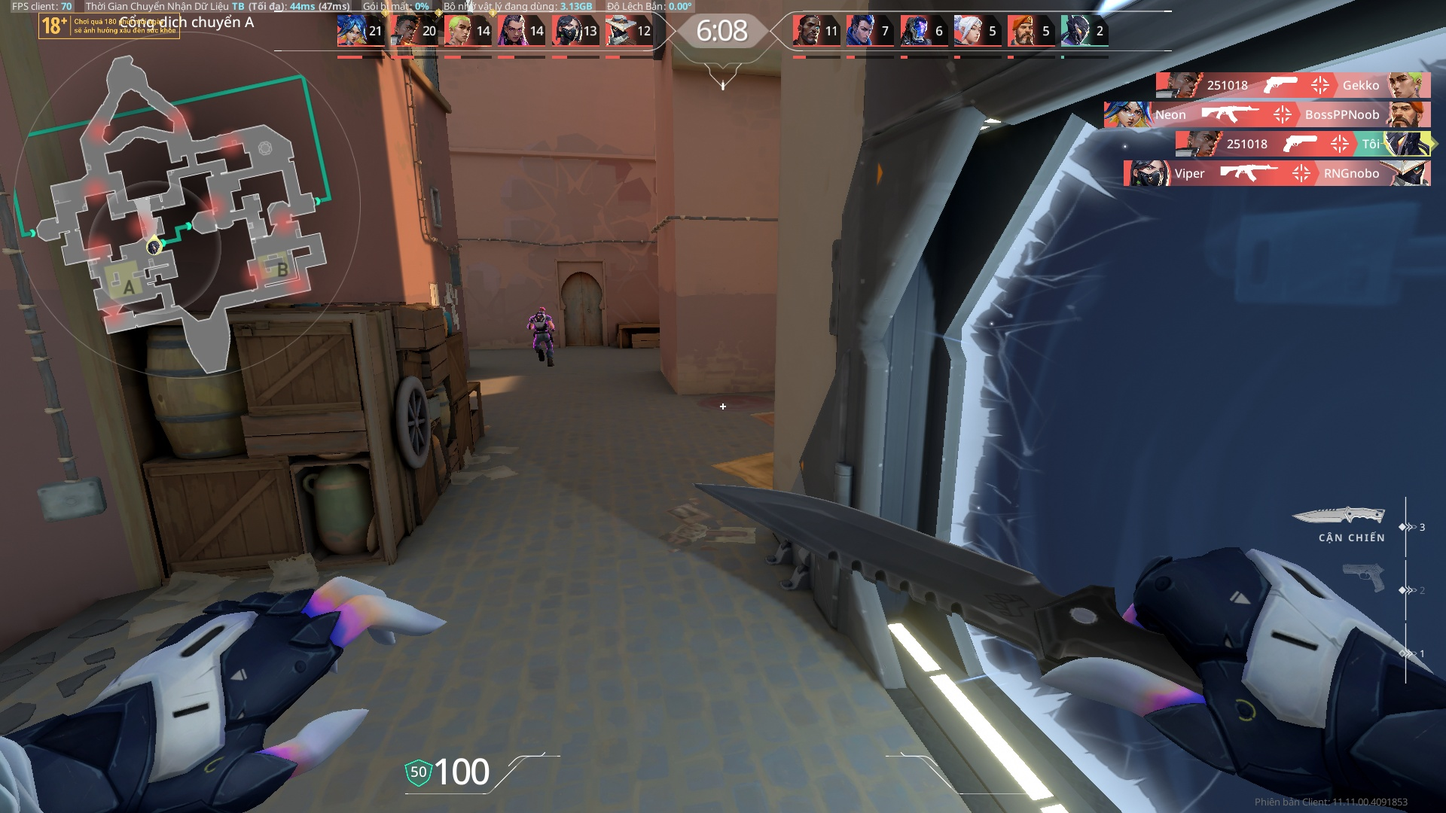body: (529, 312, 557, 335)
head: (535, 303, 548, 313)
